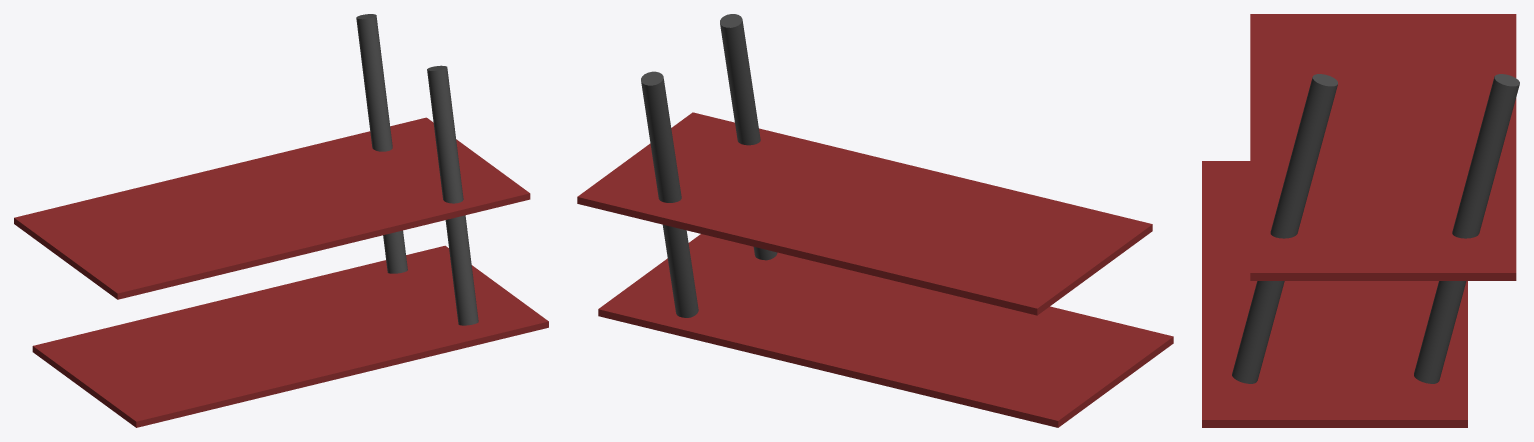
The model's file is debris32.fbx.
3 renders of one model, left to right at view 1: azimuth 30°, elevation 25°; view 2: azimuth 150°, elevation 25°; view 3: azimuth 270°, elevation 25°, orthographic. The views are drawn at different scales.
Visible parts, largest first — view 1: Box05, Box08, Cylinder19, Cylinder18; view 2: Box08, Box05, Cylinder18, Cylinder19; view 3: Box08, Box05, Cylinder18, Cylinder19.
Part boxes in pixels (bbox=[...]): Box05: bbox=[32, 245, 548, 427]; Box08: bbox=[14, 117, 530, 299]; Cylinder19: bbox=[427, 65, 478, 325]; Cylinder18: bbox=[356, 14, 407, 273]; Box08: bbox=[577, 112, 1152, 315]; Box05: bbox=[598, 234, 1173, 427]; Cylinder18: bbox=[641, 71, 698, 317]; Cylinder19: bbox=[720, 14, 777, 260]; Box08: bbox=[1250, 14, 1516, 280]; Box05: bbox=[1202, 161, 1467, 427]; Cylinder18: bbox=[1414, 74, 1519, 383]; Cylinder19: bbox=[1232, 74, 1337, 383].
Bounding box in the file's own units: 679 × 381 × 353.
